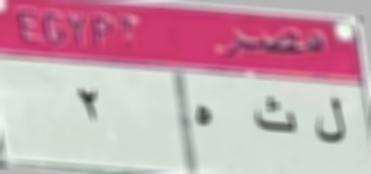2: (72, 84, 108, 124)
haa: (192, 102, 220, 128)
laam: (309, 94, 352, 150)
thaa: (252, 95, 298, 134)
